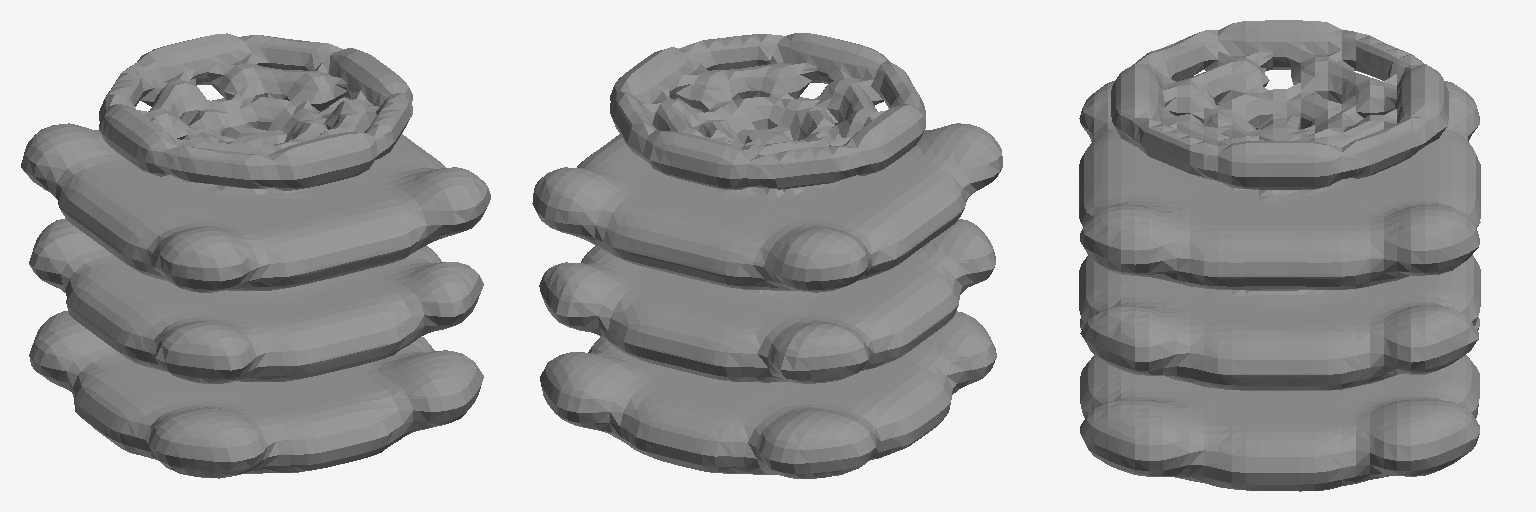
URDF robot description (cube.urdf):
<?xml version="0.0" ?> 
<robot name="cube.urdf"> 
<link name="legobrick"> 
<contact> 
<lateral_friction value="5.0"/> 
<rolling_friction value="0.0"/> 
<contact_cfm value="0.0"/> 
<contact_erp value="1.0"/> 
</contact> 
<inertial> 
<origin rpy="0 0 0" xyz="0.0 0.0 0.0"/> 
<mass value=".01"/> 
<inertia ixx="1" ixy="0" ixz="0" iyy="1" iyz="0" izz="1"/> 
</inertial> 
<visual> 
<origin rpy="1.570796 0 0" xyz="-0.026467782745976904 0.026441296361357194 -0.02710050699986506"/> 
<geometry> 
<mesh filename="N18_0.obj" scale="0.0006997431640823579 0.0006997431640823579 0.0006997431640823579"/> 
</geometry> 
<material name="yellow"> 
<color rgba="0.6 0.6 0.6 1"/> 
</material> 
</visual> 
<collision> 
<origin rpy="1.570796 0 0" xyz="-0.026467782745976904 0.026441296361357194 -0.02710050699986506"/> 
<geometry> 
<mesh filename="N18_0.obj" scale="0.0006997431640823579 0.0006997431640823579 0.0006997431640823579"/> 
</geometry> 
</collision> 
</link> 
</robot>

--- Render facts (derived) ---
Views: 3 orthographic renders of the robot side by side, from view 1: azimuth 30°, elevation 25°; view 2: azimuth 150°, elevation 25°; view 3: azimuth 270°, elevation 25°.
Model cube.urdf with 1 links and 0 joints (none), rooted at legobrick, posed every joint at zero.
Visible links, largest first — view 1: legobrick; view 2: legobrick; view 3: legobrick.
Link boxes in pixels (left/top/right/bottom): legobrick: left=21, top=33, right=490, bottom=478; legobrick: left=532, top=33, right=1002, bottom=478; legobrick: left=1079, top=20, right=1480, bottom=491.
Size in the robot's own frame: 0.056 by 0.056 by 0.0565 metres.
1 mesh visuals loaded from 1 distinct referenced files (1 OBJ).
